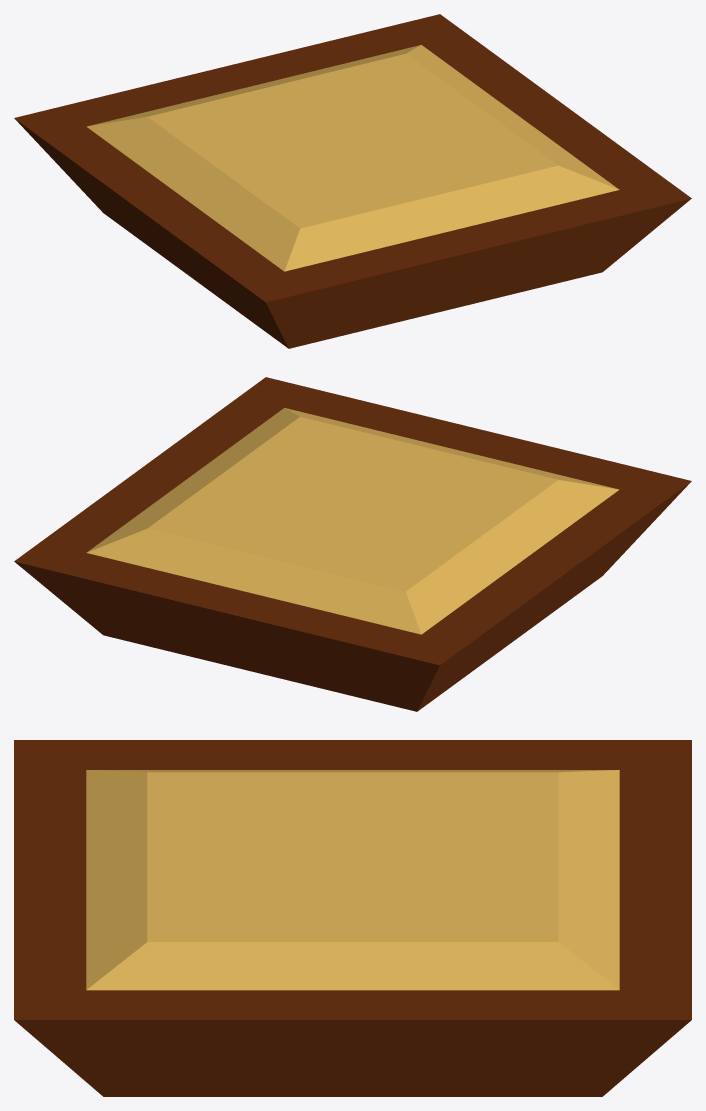
Rendered from Food Bowl 02.FBX.
The picture shows the model from 3 angles, top to bottom: view 1: azimuth 30°, elevation 25°; view 2: azimuth 150°, elevation 25°; view 3: azimuth 270°, elevation 25°; orthographic projection. The views are drawn at different scales.
Visible parts, largest first — view 1: Food Bowl 02; view 2: Food Bowl 02; view 3: Food Bowl 02.
Boxes of the visible parts, left/top/right/bottom form: Food Bowl 02: left=14, top=14, right=691, bottom=348; Food Bowl 02: left=14, top=377, right=691, bottom=711; Food Bowl 02: left=14, top=740, right=691, bottom=1096.
Size of the model in its own units: 103 by 23.42 by 105.
